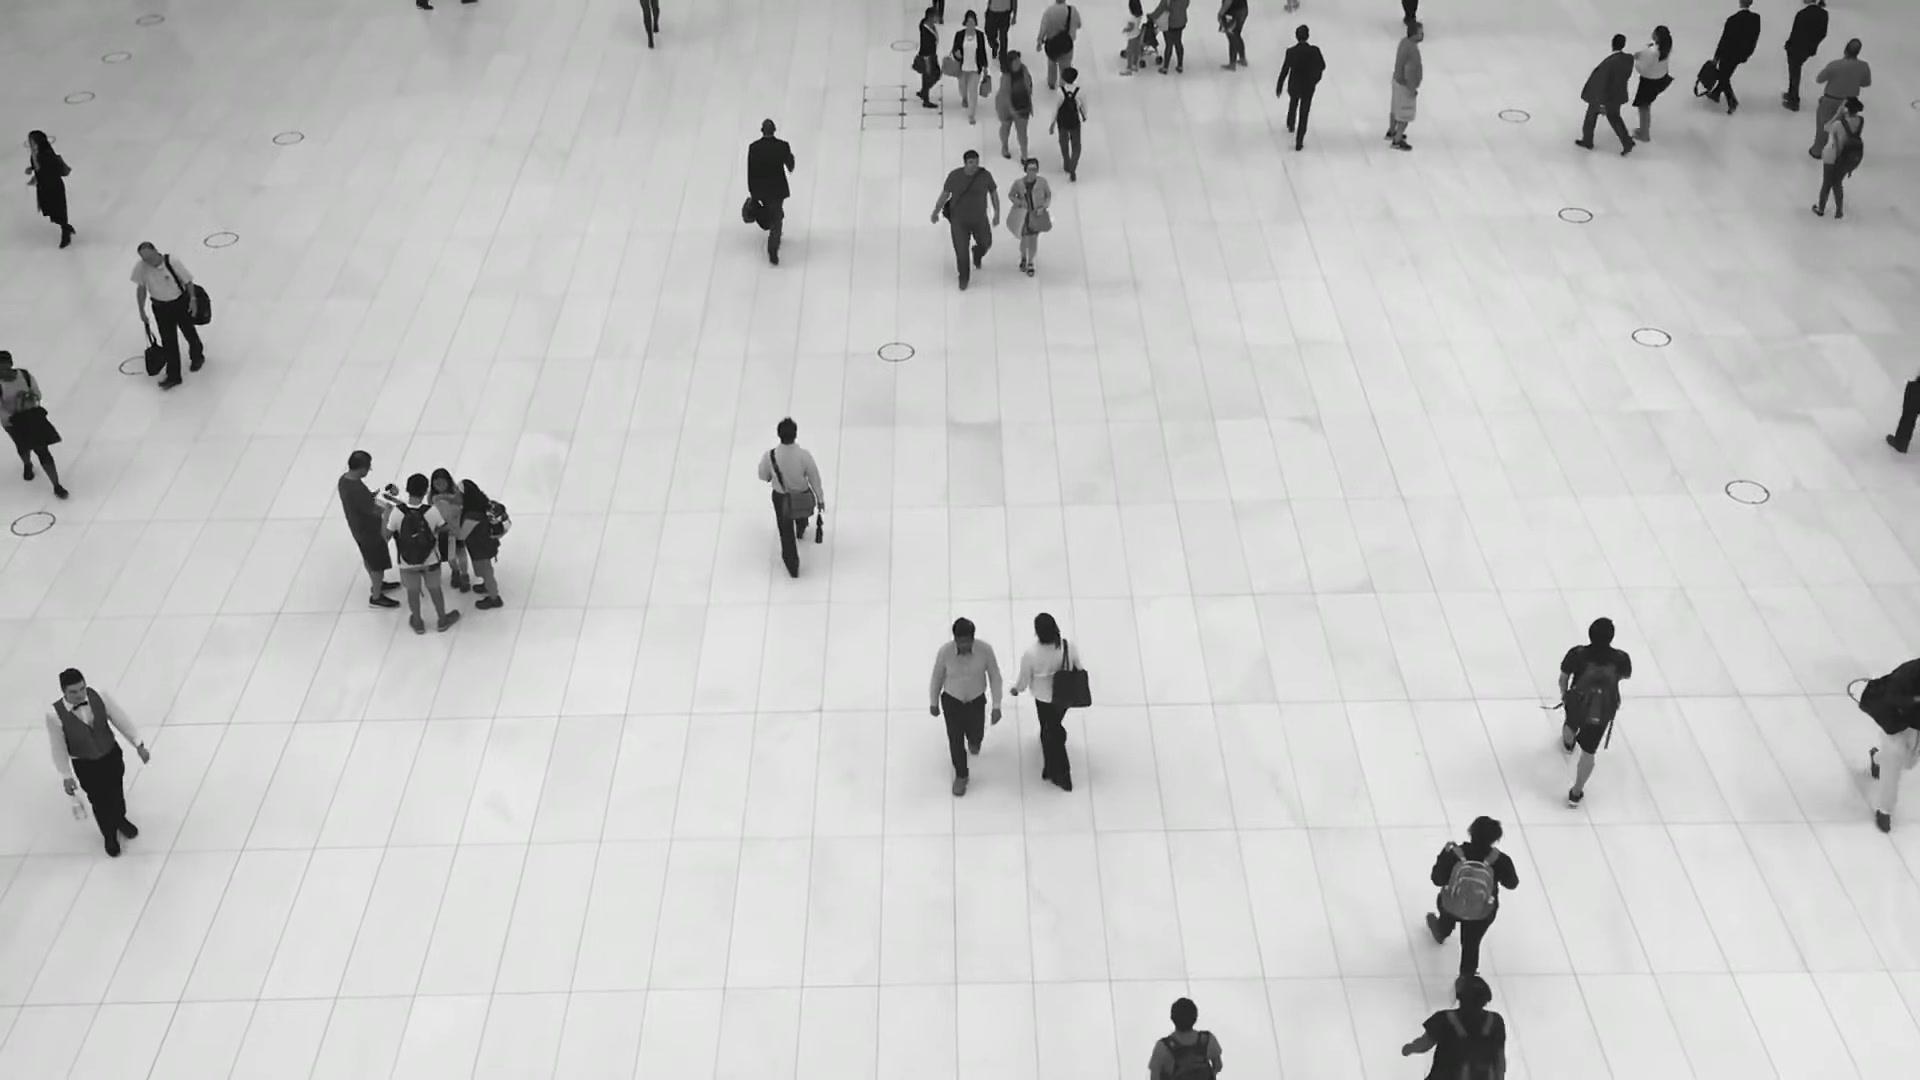person: (45, 667, 148, 853), (1428, 816, 1518, 981), (1556, 618, 1632, 811), (928, 614, 1003, 794), (1010, 610, 1084, 787), (381, 477, 460, 635), (758, 417, 826, 581), (130, 242, 205, 389), (337, 449, 403, 610), (1404, 976, 1506, 1080), (0, 349, 68, 501), (930, 148, 1001, 290), (1808, 99, 1871, 230), (1809, 37, 1872, 161), (744, 117, 797, 262), (1577, 33, 1635, 154), (453, 478, 506, 610), (1275, 26, 1326, 153), (1147, 996, 1223, 1080), (25, 129, 76, 250), (1706, 0, 1761, 115), (1776, 0, 1829, 113), (1626, 26, 1673, 145), (1383, 22, 1426, 153), (425, 468, 469, 591), (1008, 157, 1052, 278), (993, 49, 1033, 163), (1048, 65, 1087, 181), (950, 8, 987, 123), (1036, 0, 1082, 91), (916, 8, 943, 109), (1118, 0, 1142, 76)
